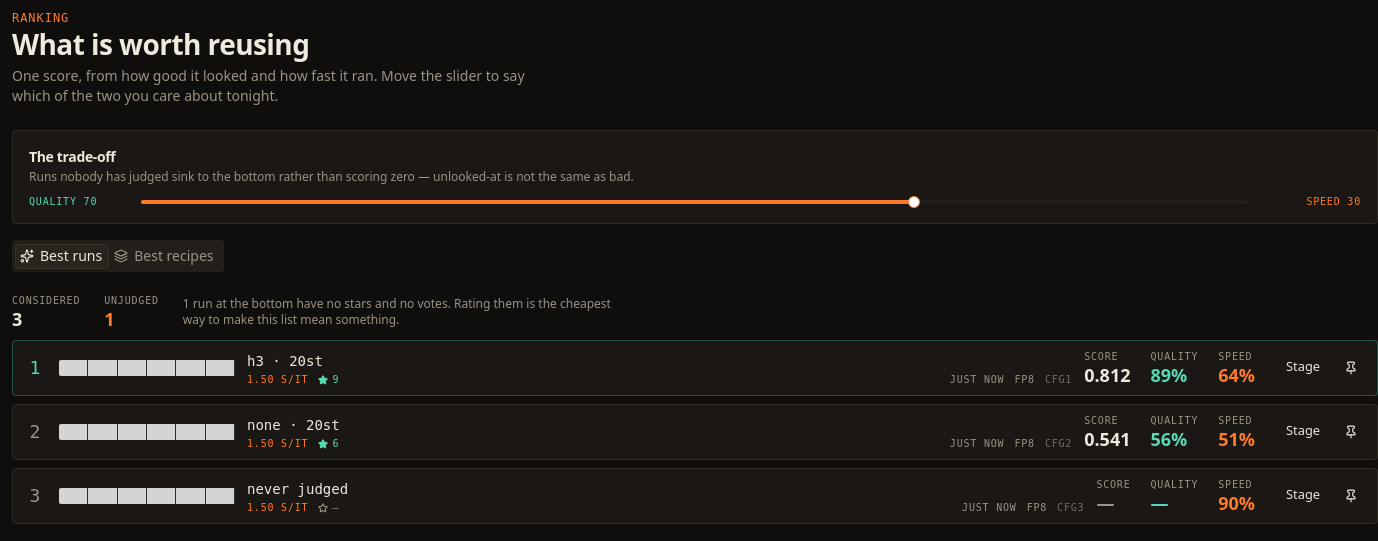
Test case: the leaderboard › explains the replicate idea when no recipe has been repeated
Step 1. Click the tab "Best recipes" → (165, 256), box [109,244,220,268]
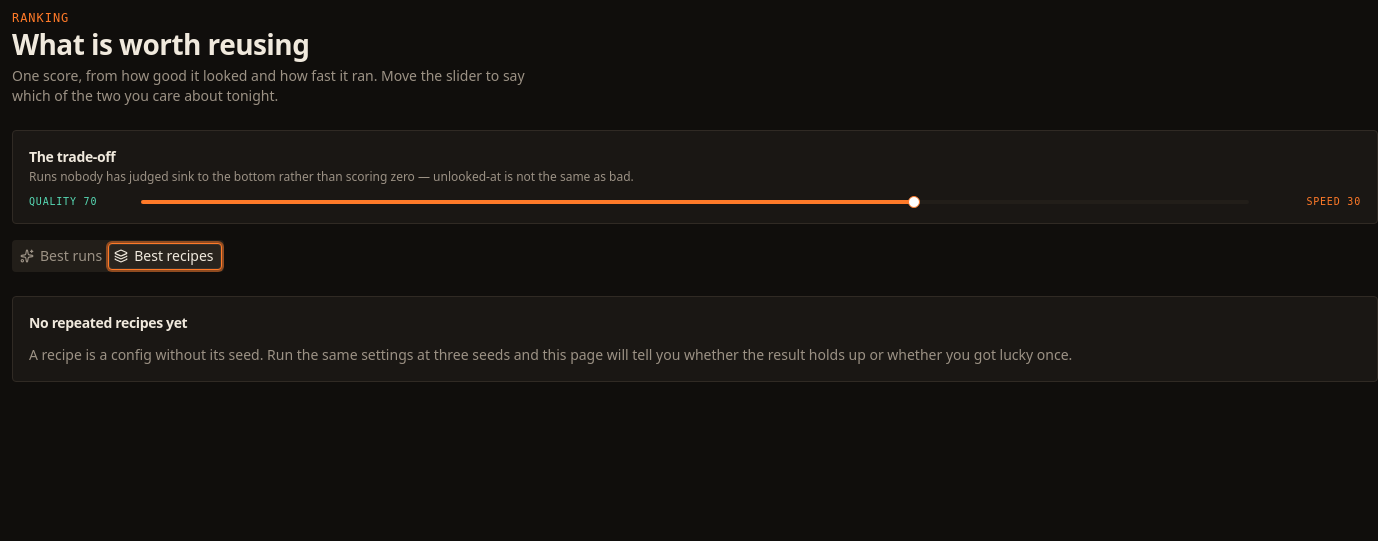
Expected: the heading "No repeated recipes yet" is shown, [29,313,187,333]
